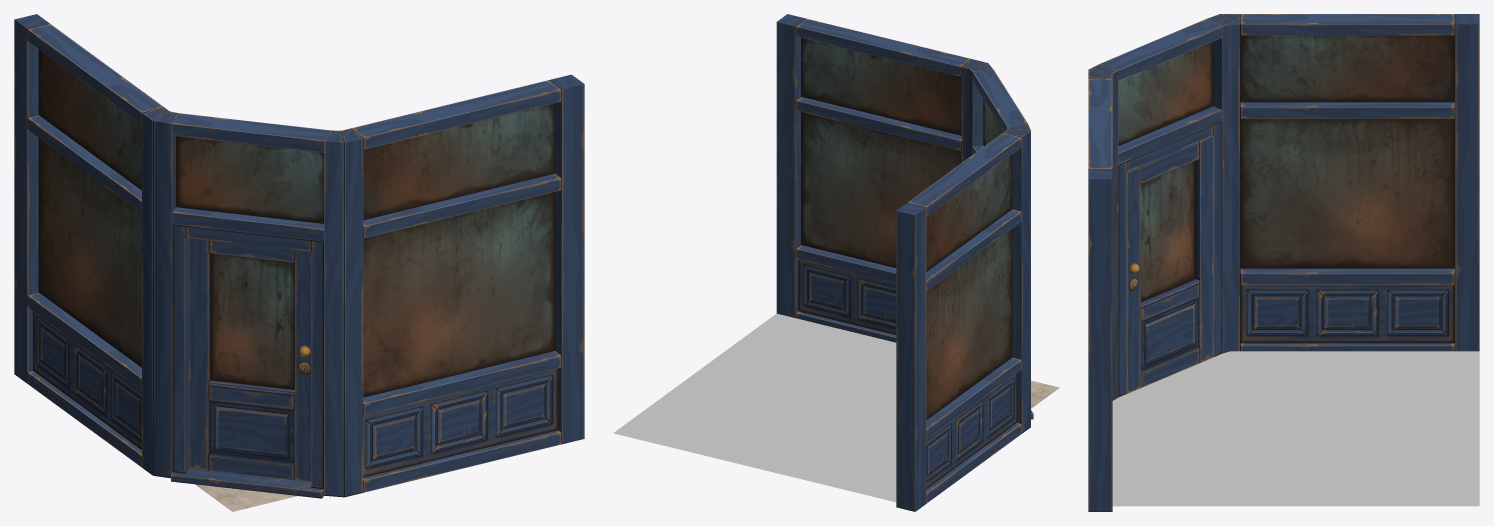
File: storeFront05.FBX
The picture shows the model from 3 angles, left to right: view 1: azimuth 30°, elevation 25°; view 2: azimuth 150°, elevation 25°; view 3: azimuth 270°, elevation 25°; orthographic projection. The views are drawn at different scales.
Parts seen in each view (by area): view 1: storeFront05, storeFront05_glass02, storeFront05_door, storeFront05_glass01, storeFront05_glass05, storeFront05_door_glass, storeFront05_glass04, storeFront05_glass03; view 2: storeFront05, storeFront05_glass02, storeFront05_glass01, storeFront05_glass05, storeFront05_glass03, storeFront05_glass04; view 3: storeFront05, storeFront05_glass01, storeFront05_glass03, storeFront05_door, storeFront05_door_glass, storeFront05_glass04.
Boxes of the visible parts, box(x1,y1,x2,y2) form: storeFront05: box(14, 14, 584, 511); storeFront05_glass02: box(363, 191, 555, 397); storeFront05_door: box(188, 238, 311, 481); storeFront05_glass01: box(38, 138, 141, 367); storeFront05_glass05: box(363, 103, 555, 220); storeFront05_door_glass: box(210, 253, 294, 389); storeFront05_glass04: box(176, 136, 323, 223); storeFront05_glass03: box(38, 49, 141, 190); storeFront05: box(613, 14, 1059, 511); storeFront05_glass02: box(801, 112, 961, 267); storeFront05_glass01: box(926, 228, 1012, 420); storeFront05_glass05: box(801, 38, 961, 135); storeFront05_glass03: box(926, 154, 1012, 271); storeFront05_glass04: box(983, 99, 1003, 146); storeFront05: box(1088, 14, 1479, 511); storeFront05_glass01: box(1240, 118, 1455, 268); storeFront05_glass03: box(1240, 35, 1455, 102); storeFront05_door: box(1127, 136, 1213, 393); storeFront05_door_glass: box(1140, 161, 1195, 301); storeFront05_glass04: box(1118, 41, 1213, 146).
Size of the model in its own units: 320 by 300 by 320.
